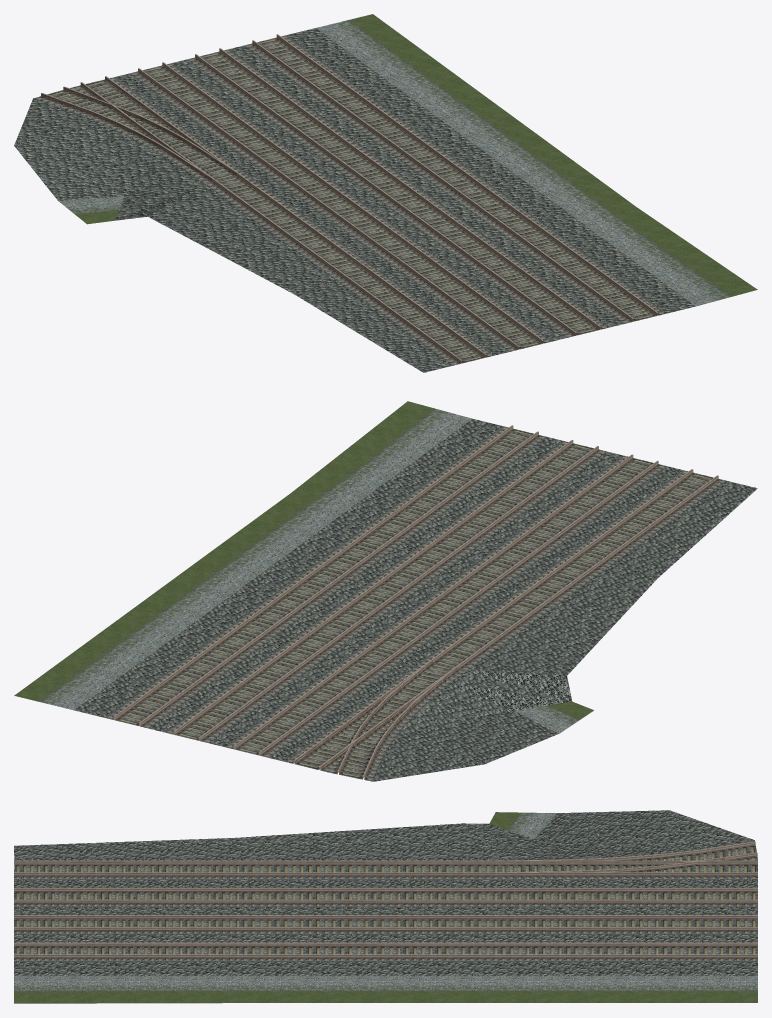
Rendered from traintrax01_sfs.obj.
3 renders of one model, top to bottom at view 1: azimuth 30°, elevation 25°; view 2: azimuth 150°, elevation 25°; view 3: azimuth 270°, elevation 25°, orthographic. The views are drawn at different scales.
Parts seen in each view (by area): view 1: traintrax01_SFS; view 2: traintrax01_SFS; view 3: traintrax01_SFS.
Boxes of the visible parts, x1,y1,x2,y2 form: traintrax01_SFS: (14,14,757,372); traintrax01_SFS: (14,401,757,781); traintrax01_SFS: (14,810,757,1003).
Bounding box in the file's own units: 29.69 × 0.8423 × 46.09.
4 materials, 4 textured.
